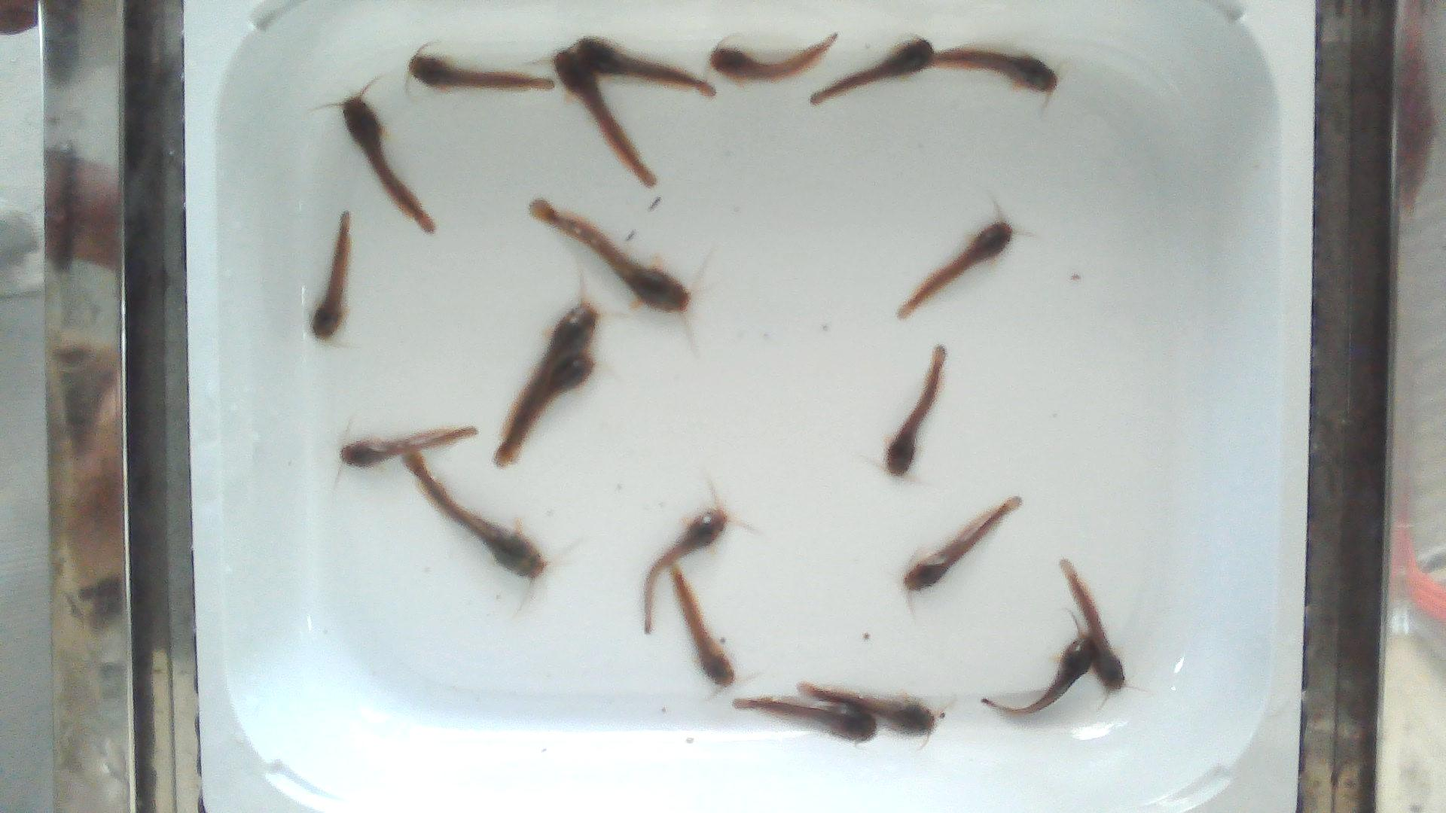lele: (402, 449, 546, 578), (532, 201, 689, 312), (553, 50, 660, 190), (500, 304, 602, 437), (342, 93, 434, 232), (898, 218, 1013, 318), (495, 354, 595, 469), (903, 496, 1021, 590), (642, 505, 728, 632), (984, 631, 1092, 718), (573, 36, 716, 96), (1061, 560, 1125, 688), (810, 38, 933, 103), (886, 346, 946, 477), (670, 568, 734, 687), (800, 681, 934, 735), (729, 696, 878, 744), (709, 34, 837, 83), (923, 46, 1060, 91), (408, 48, 554, 90), (341, 428, 479, 468), (311, 212, 349, 339)
